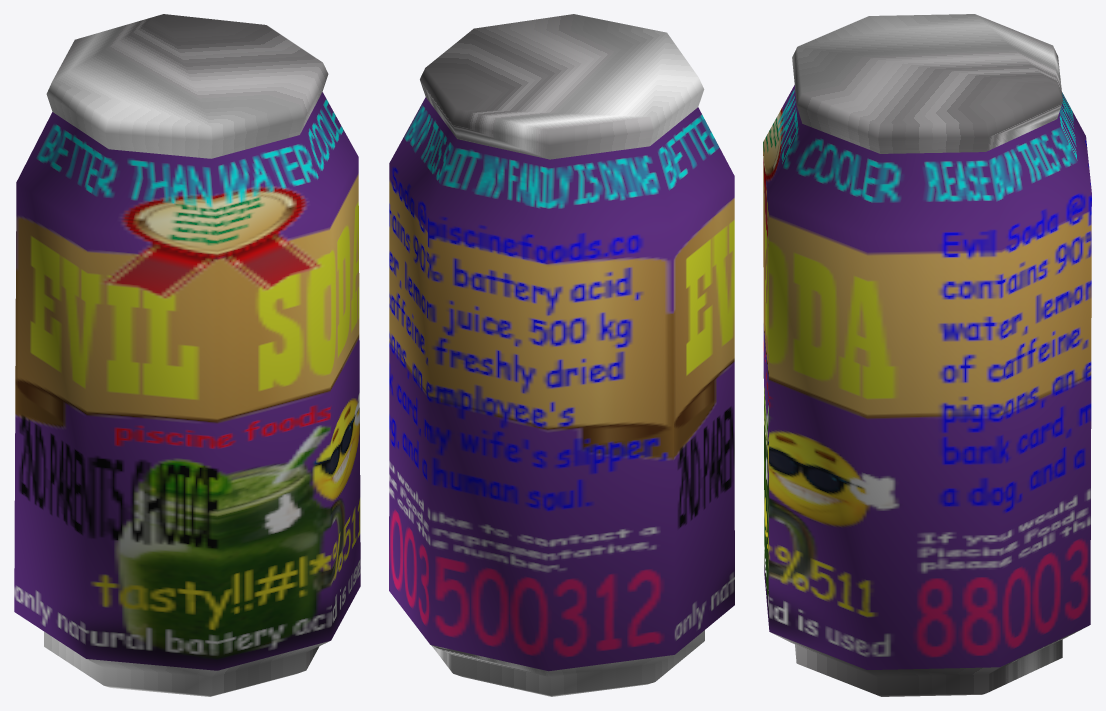
File: Bedroom_soda.glb
The picture shows the model from 3 angles, left to right: view 1: azimuth 30°, elevation 25°; view 2: azimuth 150°, elevation 25°; view 3: azimuth 270°, elevation 25°; orthographic projection.
Visible parts, largest first — view 1: Cube.034; view 2: Cube.034; view 3: Cube.034.
Boxes of the visible parts, <box> form: Cube.034: <box>14,14,360,696</box>; Cube.034: <box>389,14,734,696</box>; Cube.034: <box>763,14,1091,696</box>.
Size of the model in its own units: 0.1877 by 0.3589 by 0.1854.
Materials: 2 (2 with a texture image).
